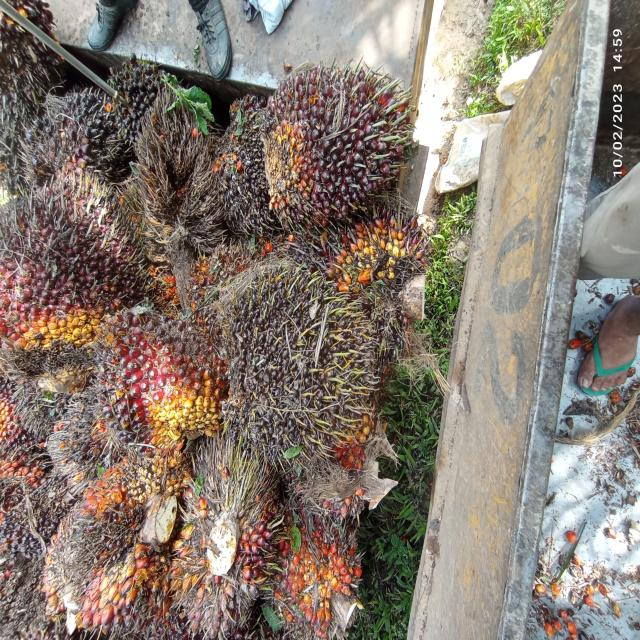fraksi 00: (190, 242, 390, 509), (100, 46, 212, 180), (14, 67, 127, 194), (201, 74, 284, 239)
fraksi 1: (252, 45, 440, 234), (36, 434, 190, 638), (0, 173, 155, 366), (75, 299, 237, 476)
fraksi 4: (259, 488, 378, 640)
